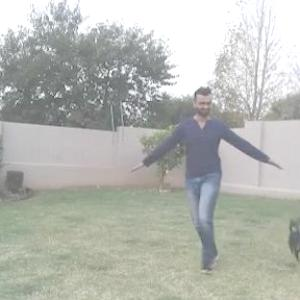land: (130, 97, 278, 260)
